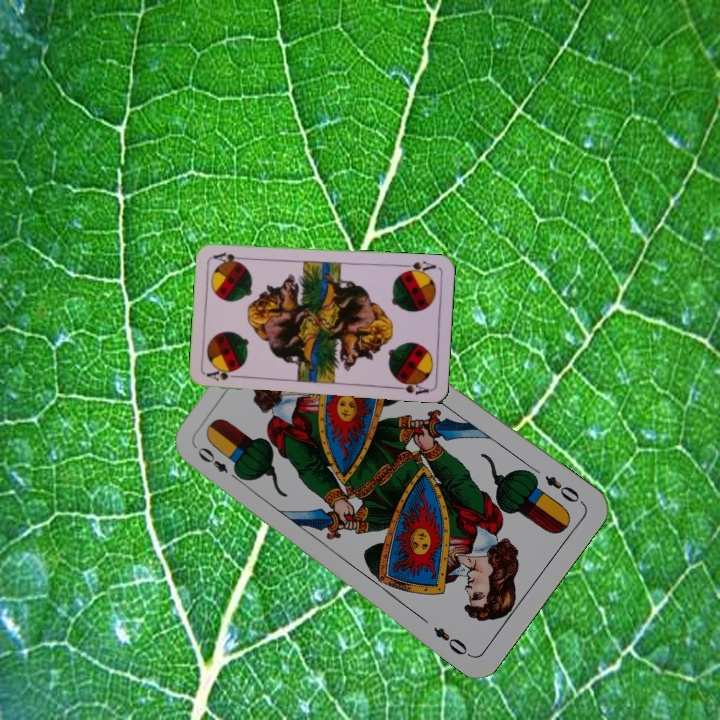EO: (193, 443, 245, 485), (540, 471, 582, 506)
SA: (398, 257, 438, 277), (203, 365, 244, 383)
